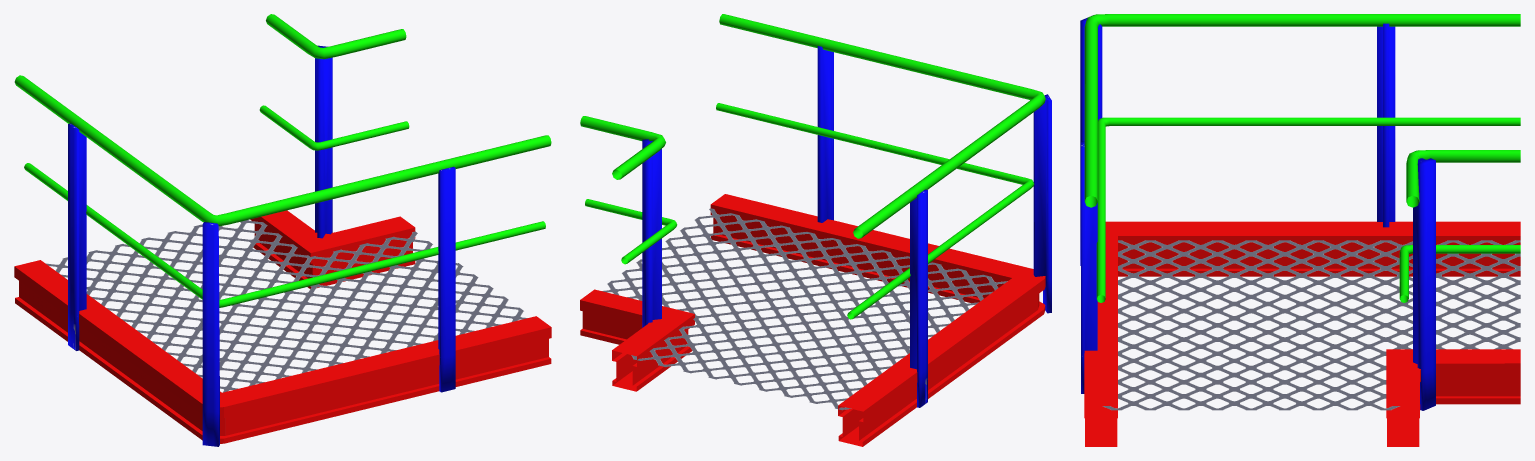
The model's file is PlataformaCurva.fbx.
3 views of the same model, side by side, from view 1: azimuth 30°, elevation 25°; view 2: azimuth 150°, elevation 25°; view 3: azimuth 270°, elevation 25° (orthographic). The views are drawn at different scales.
Visible parts, largest first — view 1: PlataformaJoelho; view 2: PlataformaJoelho; view 3: PlataformaJoelho.
Part boxes in pixels (box(x1,y1,x2,y2)): PlataformaJoelho: box(14, 14, 551, 446); PlataformaJoelho: box(580, 14, 1051, 446); PlataformaJoelho: box(1080, 14, 1520, 446).
Bounding box in the file's own units: 164 × 103 × 164.
